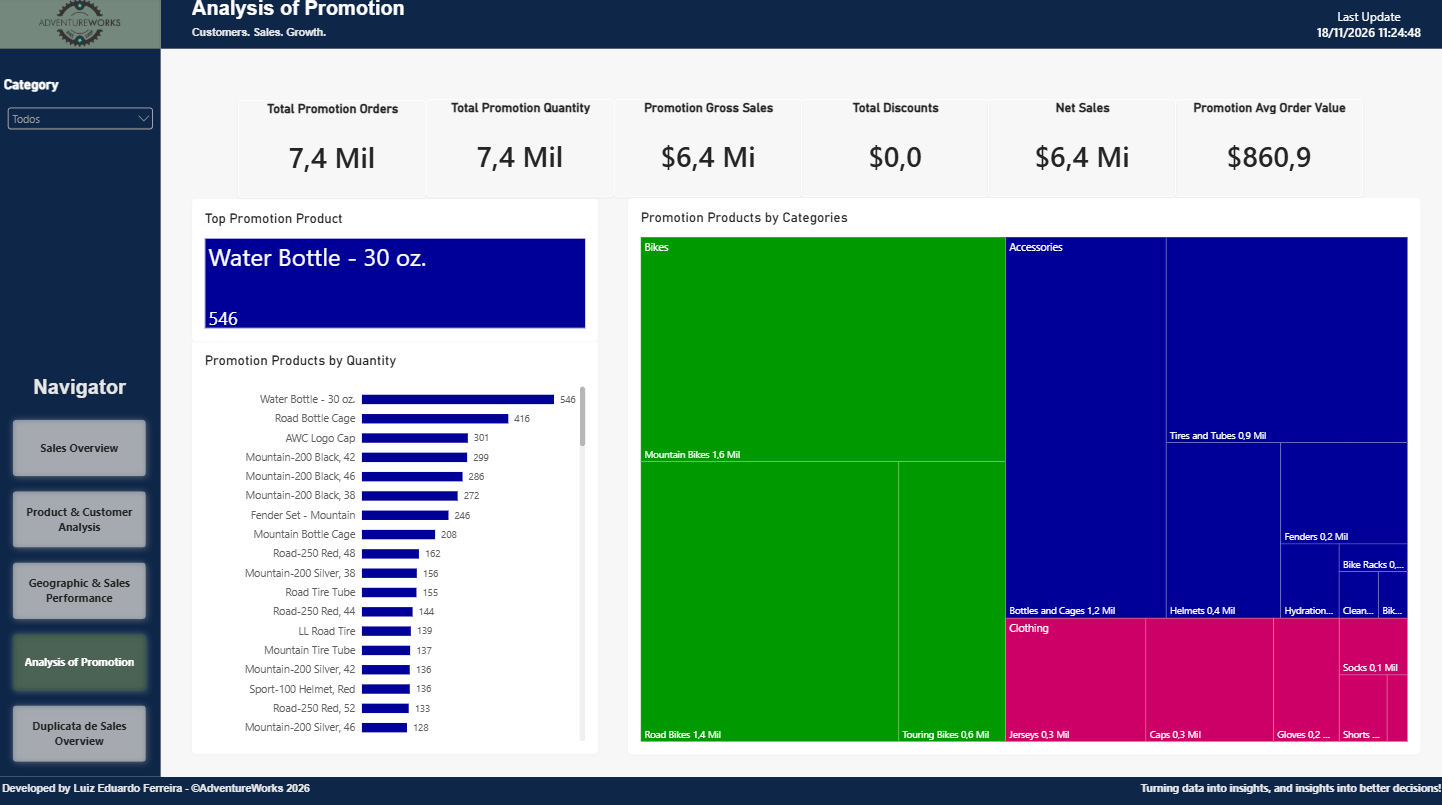

The dashboard page shown, as its layout file describes it:
{"tool":"powerbi","page":{"name":"Promotion & Sales Reason Analysis","canvas":[1920,1080],"ordinal":4},"visuals":[{"type":"shape","box":[215.3,0,1704.7,68.8],"z":0},{"type":"shape","box":[0,1037,1919.6,41.6],"z":1000},{"type":"cardVisual","fields":{"Data":["Min(a-métricas.Data Atual)"]},"box":[1724.8,6.7,194.8,57.8],"z":2000},{"type":"textbox","box":[1504.2,1043.2,414.3,30.6],"z":3000},{"type":"textbox","box":[3.6,1042.4,421.7,36.2],"z":4000},{"type":"textbox","box":[256.7,0,578.6,50.5],"z":5000},{"type":"textbox","box":[256.7,37.2,307.2,43.9],"z":6000},{"type":"shape","box":[0,69.2,215.5,968.3],"z":7001},{"type":"pageNavigator","box":[9.3,553.3,195.5,473.5],"z":7002},{"type":"textbox","box":[9.3,485.5,195.5,54.5],"z":7003},{"type":"image","box":[0,0,215.3,68.8],"z":7004}]}

Visuals, with their boxes in screenshot pixels (x1, y1, x2, y2), scaled from the page's 1920x1080 canvas onto the 1442x805 screenshot:
shape: (left=162, top=0, right=1441, bottom=51)
shape: (left=0, top=773, right=1441, bottom=804)
cardVisual - Min(a-métricas.Data Atual): (left=1295, top=5, right=1441, bottom=48)
textbox: (left=1130, top=778, right=1441, bottom=800)
textbox: (left=3, top=777, right=319, bottom=804)
textbox: (left=193, top=0, right=627, bottom=38)
textbox: (left=193, top=28, right=424, bottom=60)
shape: (left=0, top=52, right=162, bottom=773)
pageNavigator: (left=7, top=412, right=154, bottom=765)
textbox: (left=7, top=362, right=154, bottom=402)
image: (left=0, top=0, right=162, bottom=51)
